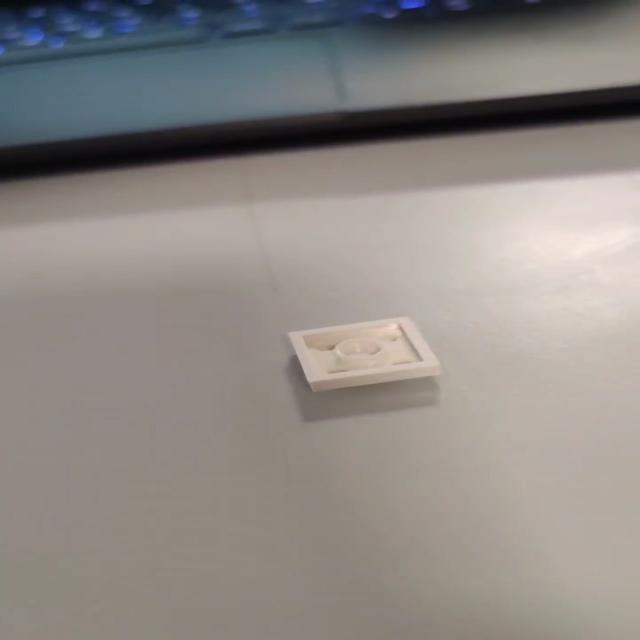C2x2x0: (284, 316, 444, 390)
